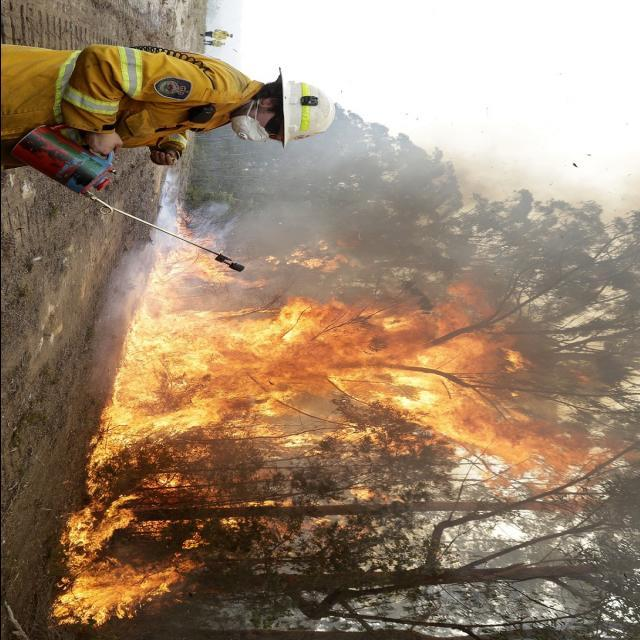Fire: (47, 233, 635, 626)
